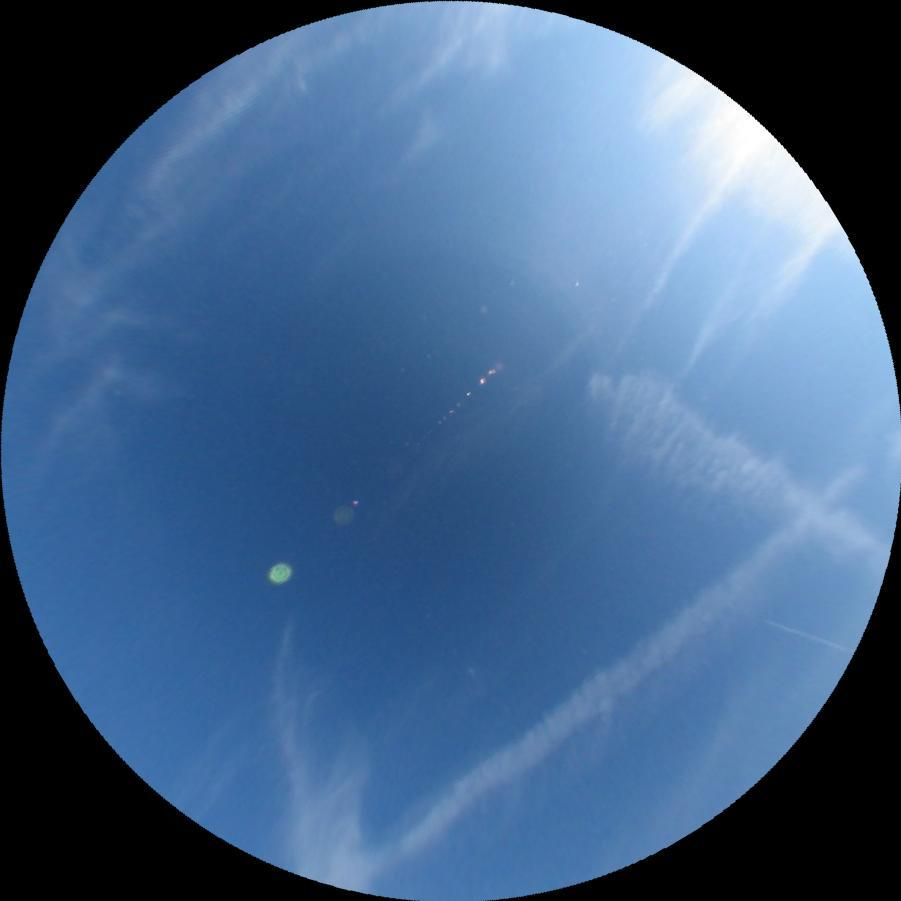contrail veryold: (372, 463, 877, 870), (570, 341, 901, 583), (614, 53, 890, 273)
contrail young: (761, 618, 854, 655)
